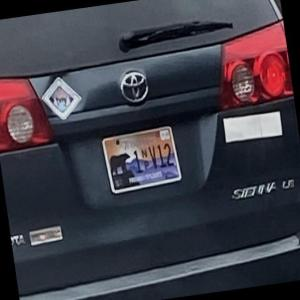Plate: (101, 124, 183, 196)
